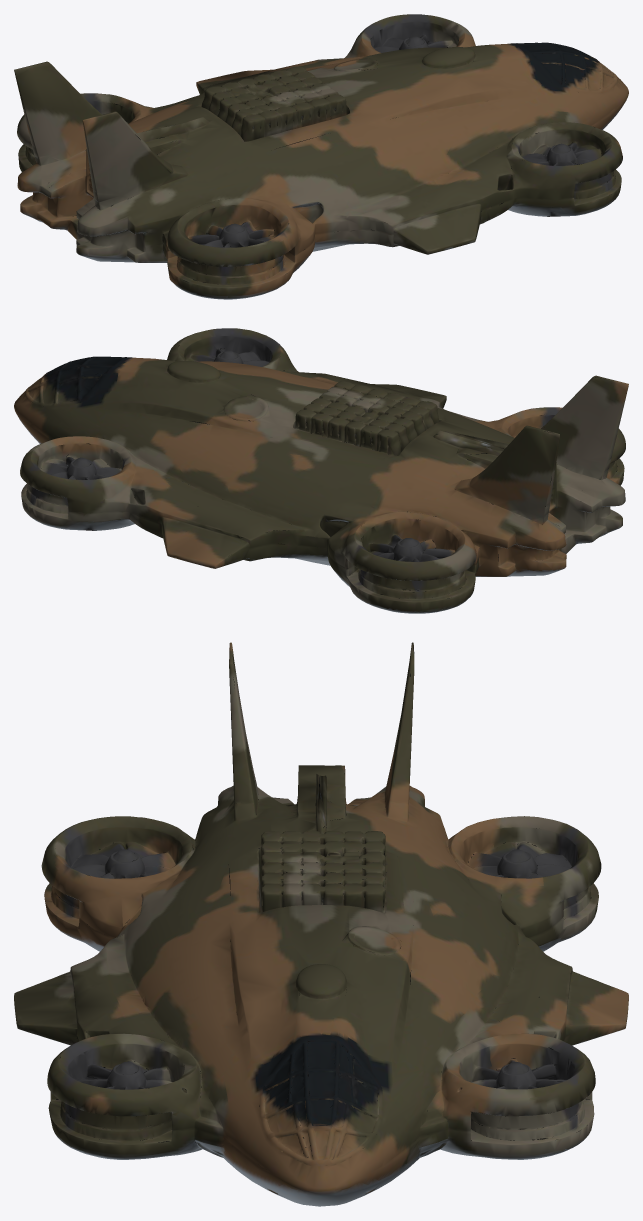
File: fh_hangar_bomber_t5.glb
3 renders of one model, top to bottom at view 1: azimuth 30°, elevation 25°; view 2: azimuth 150°, elevation 25°; view 3: azimuth 270°, elevation 25°, orthographic. The views are drawn at different scales.
Visible parts, largest first — view 1: fh_hangar_bomber_t5, flap_r; view 2: fh_hangar_bomber_t5, flap_l; view 3: fh_hangar_bomber_t5.
Boxes of the visible parts, x1,y1,x2,y2 form: fh_hangar_bomber_t5: (14, 14, 628, 299); flap_r: (389, 218, 425, 247); fh_hangar_bomber_t5: (14, 328, 628, 613); flap_l: (217, 532, 253, 562); fh_hangar_bomber_t5: (14, 642, 628, 1206).
Size of the model in its own units: 1 by 0.3326 by 0.6963.
3 materials, 2 textured.
